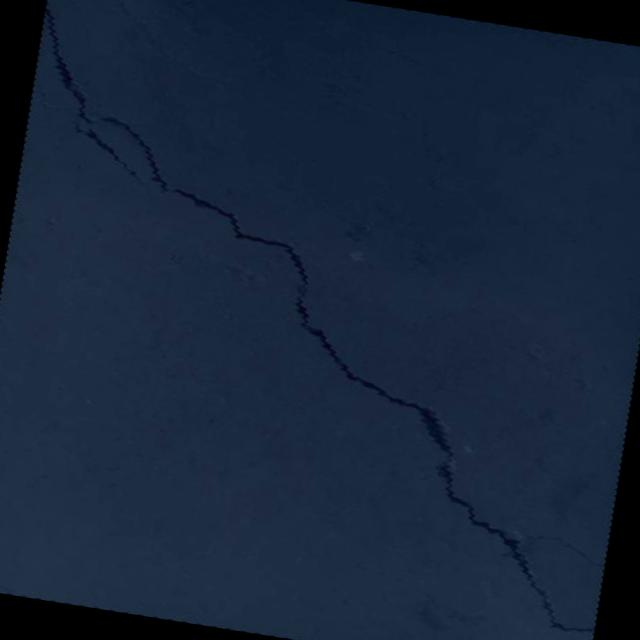crack: (0, 4, 640, 635), (518, 532, 608, 570), (46, 0, 50, 3)
